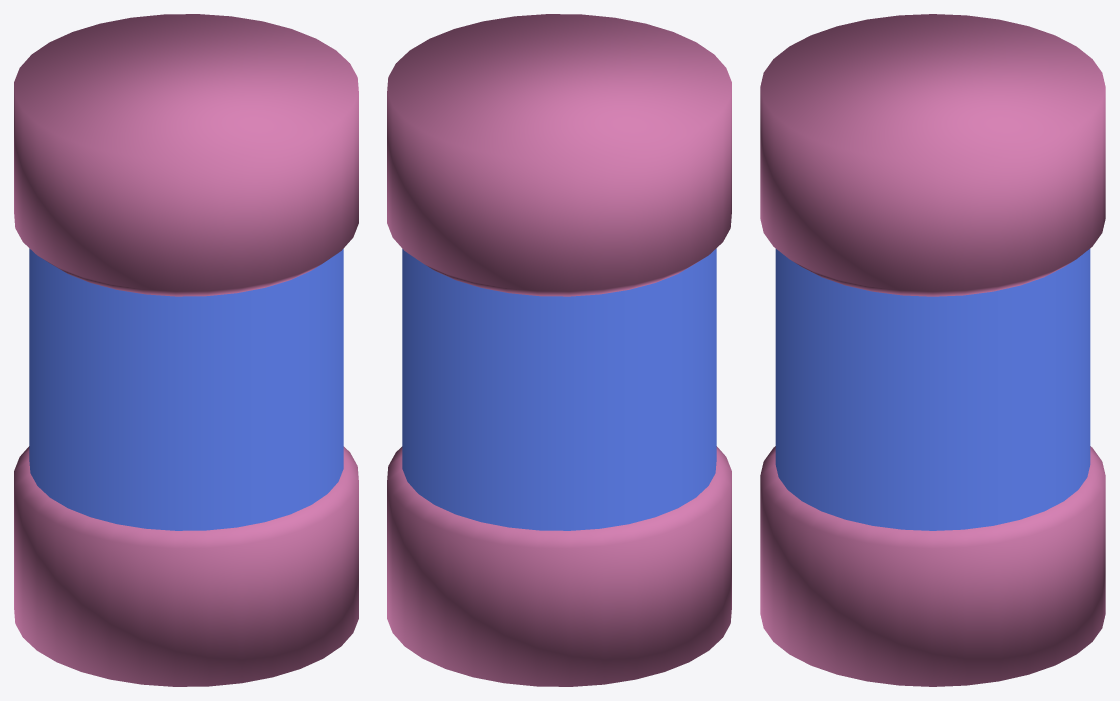
File: Battery.fbx
3 views of the same model, side by side, from view 1: azimuth 30°, elevation 25°; view 2: azimuth 150°, elevation 25°; view 3: azimuth 270°, elevation 25° (orthographic).
Parts seen in each view (by area): view 1: Cylinder; view 2: Cylinder; view 3: Cylinder.
Boxes of the visible parts, <box> form: Cylinder: <box>14,14,358,686</box>; Cylinder: <box>387,14,731,686</box>; Cylinder: <box>760,14,1105,686</box>.
Bounding box in the file's own units: 0.7402 × 1.25 × 0.7402.
